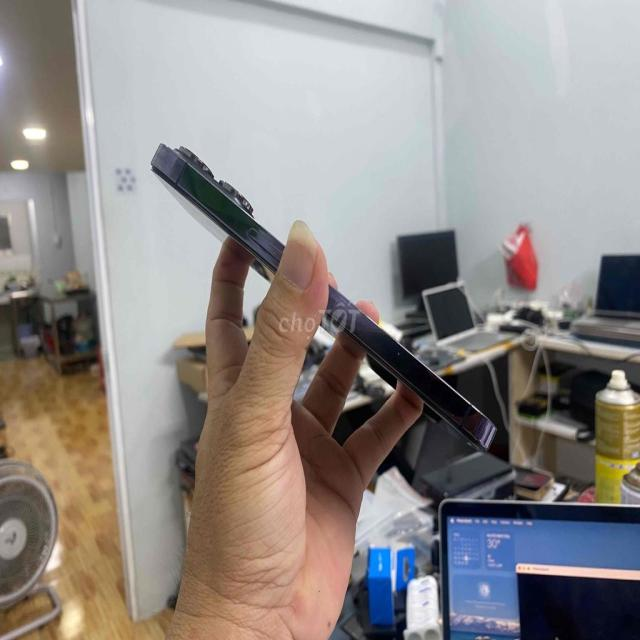gen_14: (323, 286, 496, 449), (151, 144, 284, 278)
